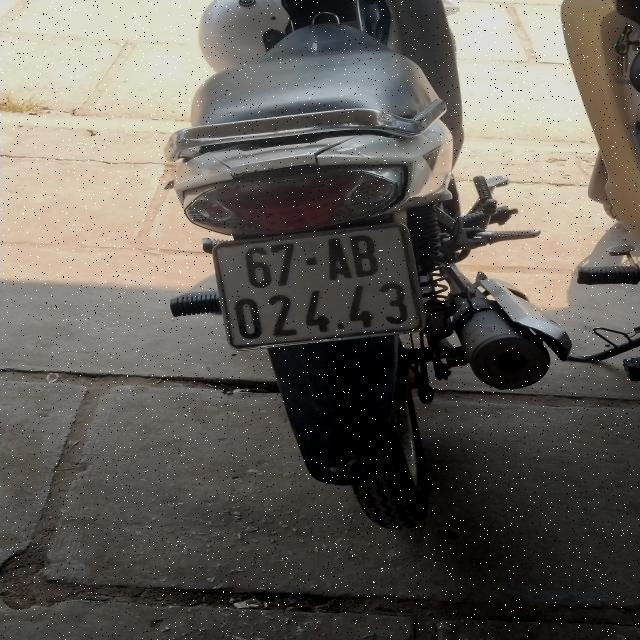0: (232, 295, 266, 342)
2: (267, 294, 297, 339)
3: (378, 278, 409, 326)
4: (350, 283, 377, 330), (303, 290, 331, 332)
6: (244, 245, 274, 289)
7: (268, 241, 300, 289)
A: (326, 237, 354, 284)
B: (352, 232, 382, 282)
